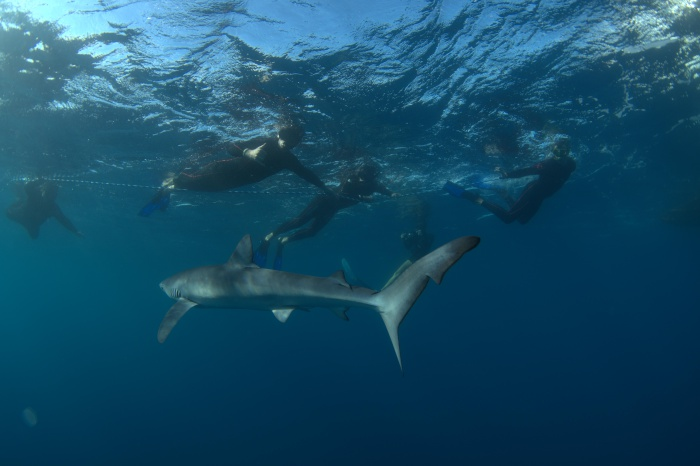Azul: (198, 186, 700, 378)
